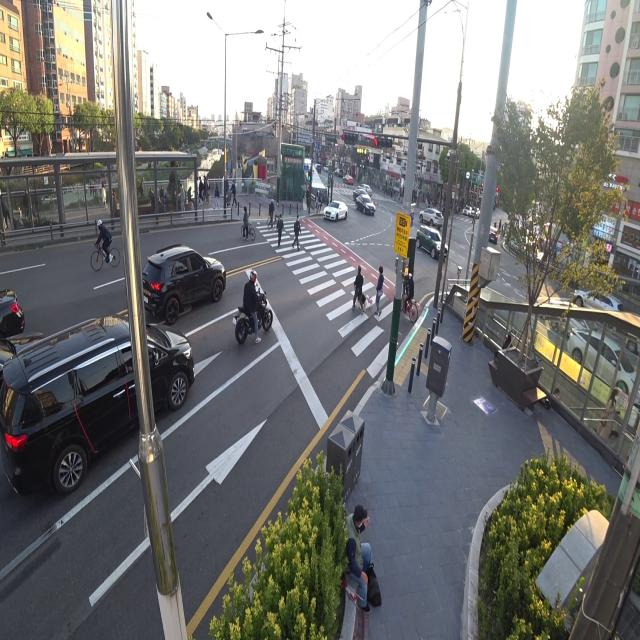Car: (0, 286, 198, 524), (139, 231, 235, 321), (0, 313, 54, 384), (0, 267, 34, 336), (414, 220, 448, 260), (322, 198, 351, 226), (418, 203, 445, 229), (356, 194, 379, 216), (359, 180, 374, 197), (352, 186, 367, 202), (487, 226, 500, 244), (468, 206, 482, 220), (342, 172, 355, 186), (463, 204, 470, 217)
Motorcycle: (231, 266, 273, 348)
